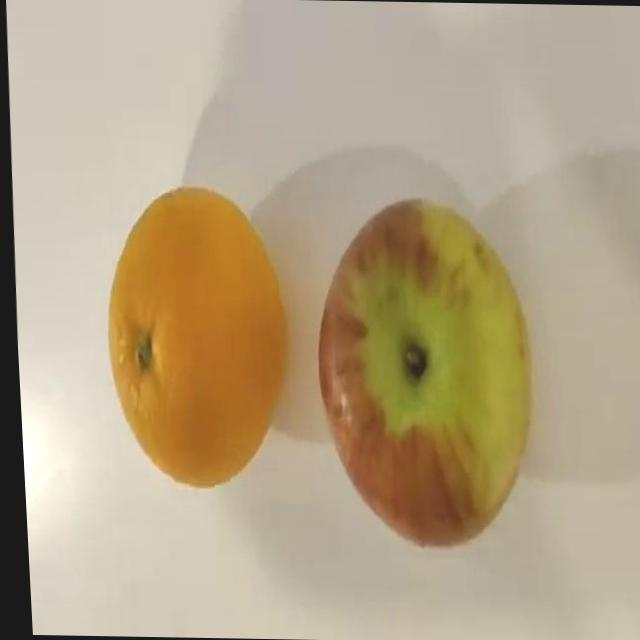Apple: (302, 193, 537, 550)
Orange: (94, 183, 291, 489)
